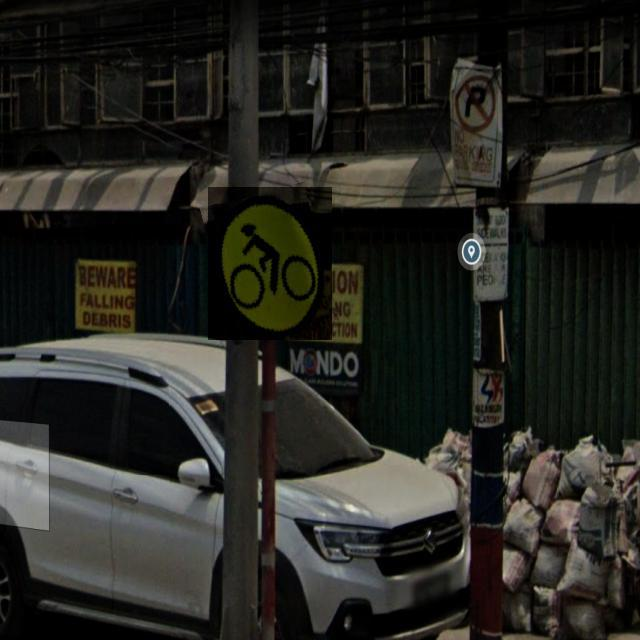bike lane: (208, 187, 332, 340)
